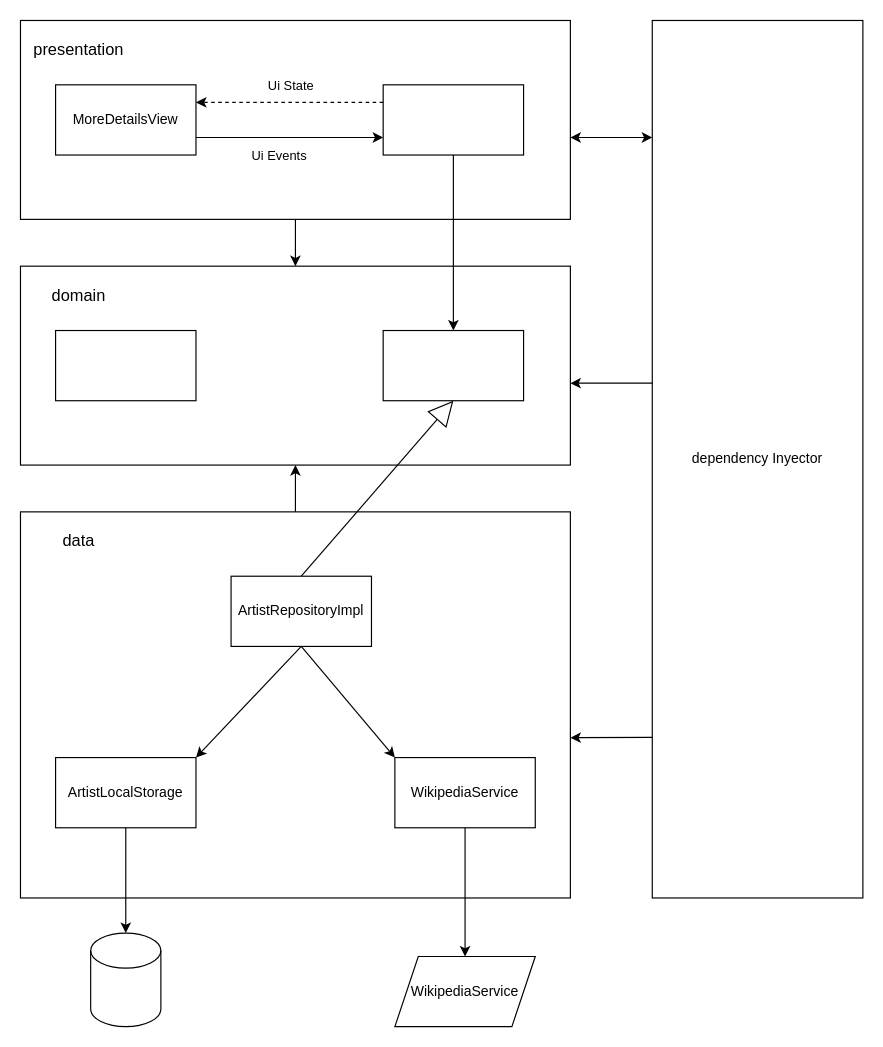
This 883x1047 diagram has some shape labels left out. The shapes that lost their labels are listed below. From the top down, each one's centre as x and y in pixels, then its label:
(x=453, y=119): MoreDetailsPresenter
(x=125, y=365): Artist
(x=453, y=365): MoreDetailsModel
